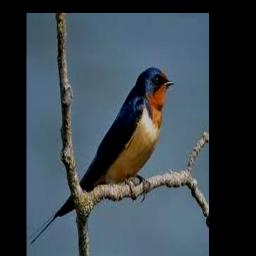Swallow: (29, 66, 174, 243)
